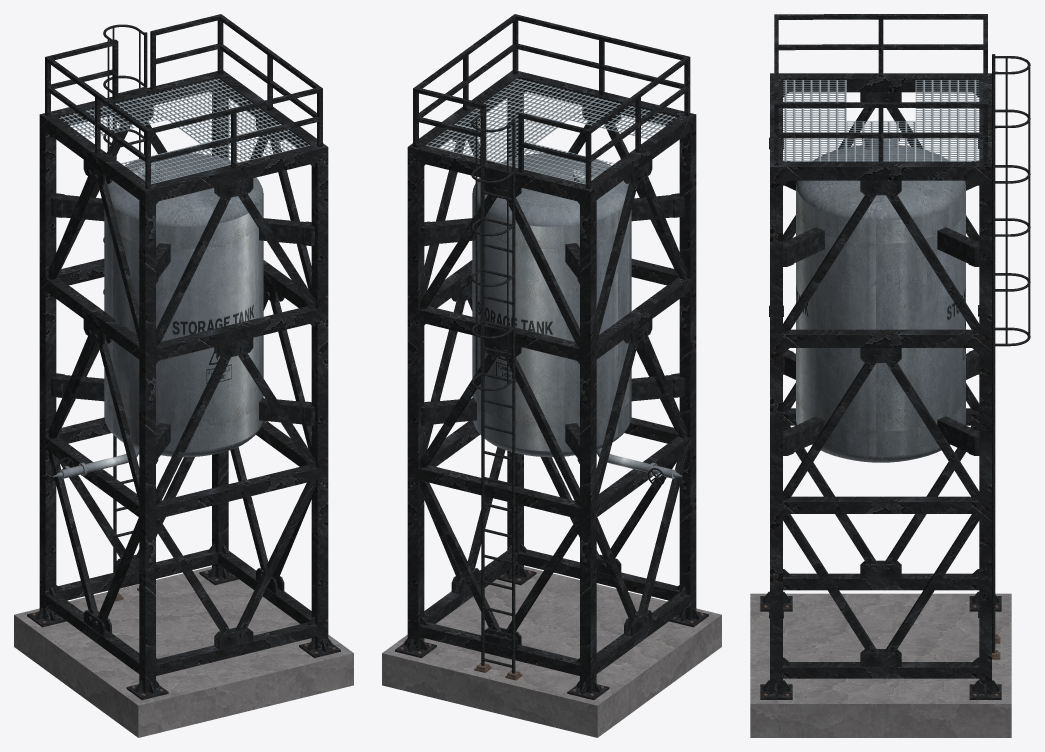
The model's file is tank.glb.
The picture shows the model from 3 angles, left to right: view 1: azimuth 30°, elevation 25°; view 2: azimuth 150°, elevation 25°; view 3: azimuth 270°, elevation 25°; orthographic projection. The views are drawn at different scales.
Parts seen in each view (by area): view 1: BaseStructure_DarkIron_0, Tank_Tank_0, BaseStructure_Concrete_0, TopFloor_Material.003_0; view 2: BaseStructure_DarkIron_0, Tank_Tank_0, BaseStructure_Concrete_0, TopFloor_Material.003_0; view 3: BaseStructure_DarkIron_0, Tank_Tank_0, BaseStructure_Concrete_0, TopFloor_Material.003_0.
Boxes of the visible parts, left/top/right/bottom form: BaseStructure_DarkIron_0: left=27, top=14, right=340, bottom=699; Tank_Tank_0: left=53, top=153, right=263, bottom=478; BaseStructure_Concrete_0: left=14, top=566, right=353, bottom=737; TopFloor_Material.003_0: left=59, top=78, right=309, bottom=184; BaseStructure_DarkIron_0: left=395, top=14, right=708, bottom=699; Tank_Tank_0: left=472, top=153, right=682, bottom=478; BaseStructure_Concrete_0: left=382, top=566, right=721, bottom=737; TopFloor_Material.003_0: left=426, top=78, right=676, bottom=184; BaseStructure_DarkIron_0: left=760, top=14, right=1030, bottom=699; Tank_Tank_0: left=796, top=138, right=965, bottom=462; BaseStructure_Concrete_0: left=750, top=593, right=1011, bottom=737; TopFloor_Material.003_0: left=783, top=80, right=979, bottom=161.
Size of the model in its own units: 3.87 by 9.21 by 3.75.
Materials: 5 (5 with a texture image).
